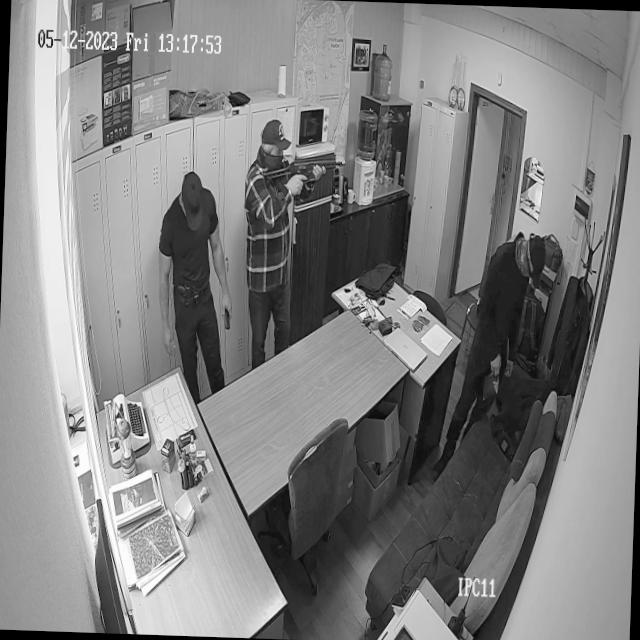gun: (262, 150, 343, 188)
person: (430, 230, 547, 490), (154, 168, 238, 409)
person with a gun: (237, 116, 344, 372)
